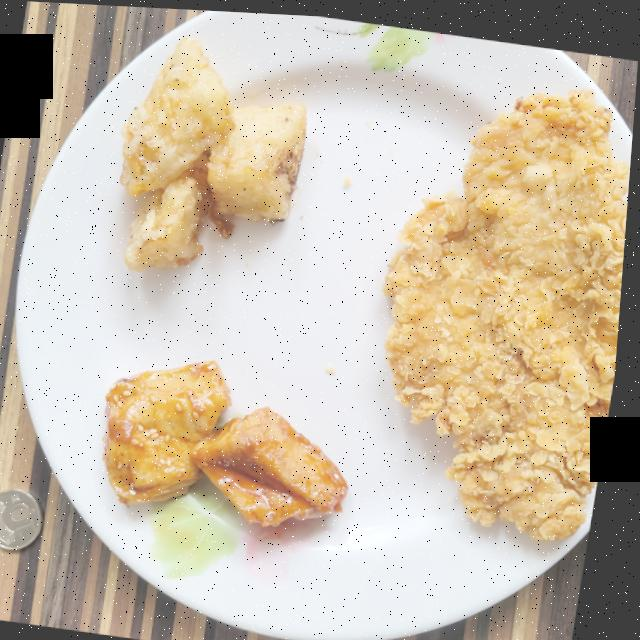coin: (0, 486, 50, 548)
creamy tofu: (109, 357, 354, 522)
fried chicken cutlet: (387, 82, 631, 533)
fried potato: (123, 33, 308, 269)
